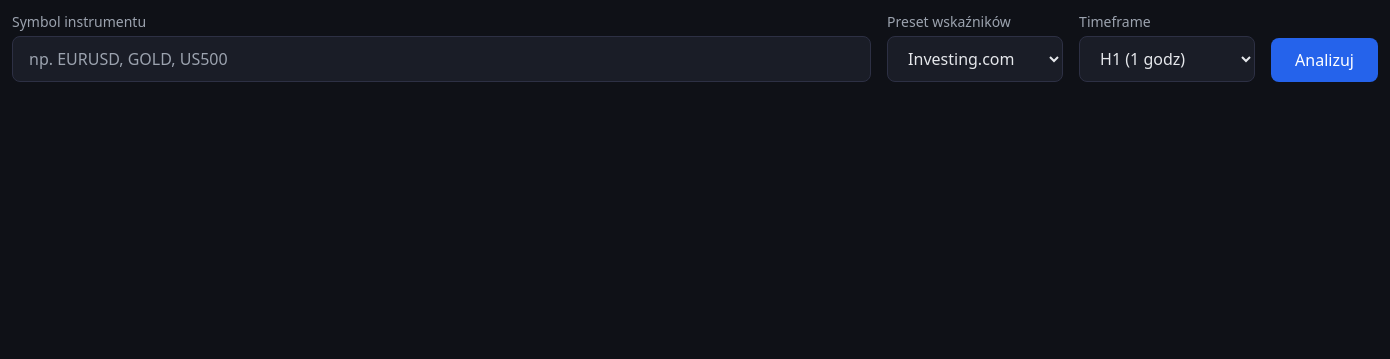
Test: AnalysisForm › walidacja — symbol krótszy niż 2 znaki pokazuje błąd
The image size is (1390, 359).
Type "E" into the dropdown labelled "Symbol instrumentu" at [442, 59], box x1=12 y1=36 x2=871 y2=82
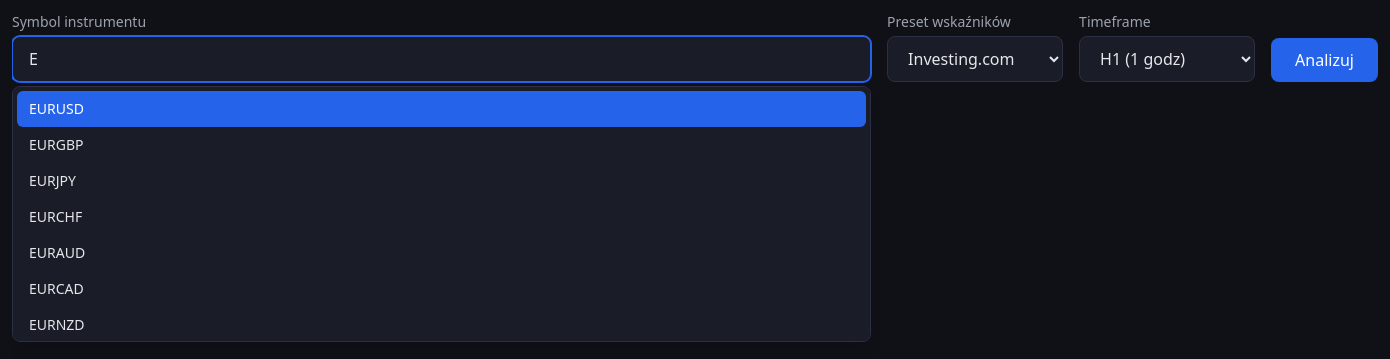
Click the button "Analizuj" at [1325, 60], box x1=1271 y1=38 x2=1378 y2=82
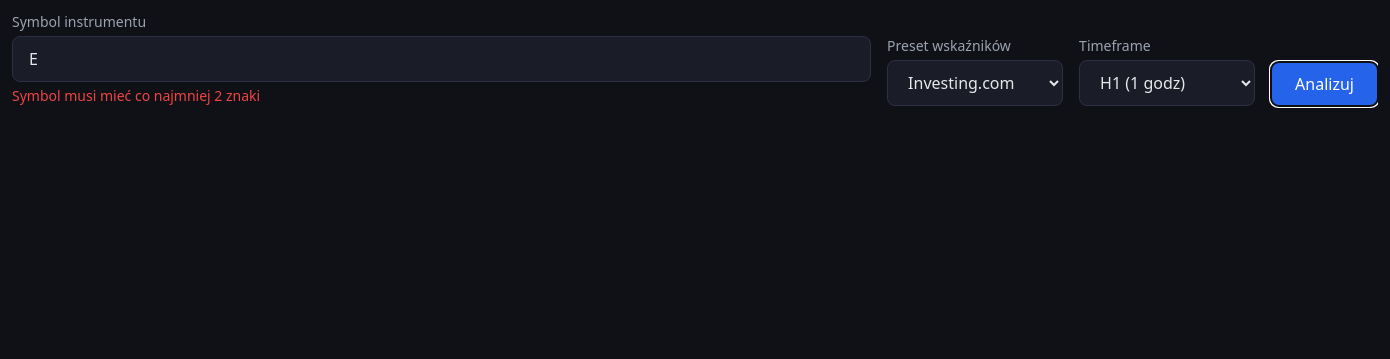
Expected: the text "Symbol musi mieć co najmniej 2 znaki" is shown, x1=12 y1=86 x2=260 y2=105
